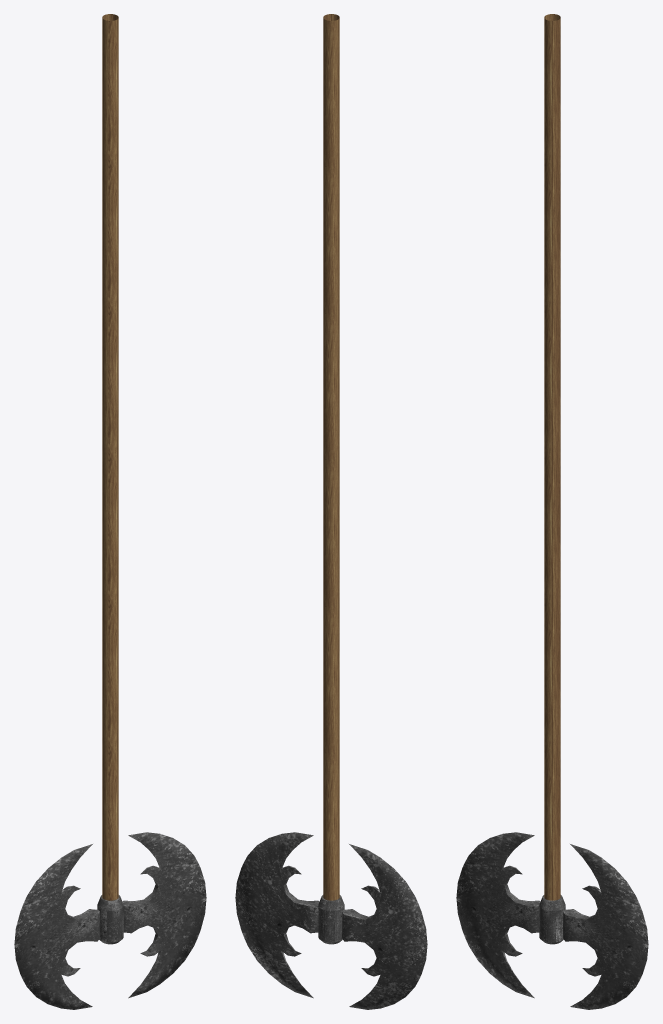
Rendered from Axe.fbx.
3 renders of one model, left to right at view 1: azimuth 30°, elevation 25°; view 2: azimuth 150°, elevation 25°; view 3: azimuth 330°, elevation 25°, orthographic.
Visible parts, largest first — view 1: Blade, Handle, Base; view 2: Blade, Handle, Base; view 3: Blade, Handle, Base.
Boxes of the visible parts, left/top/right/bottom form: Blade: left=14, top=832, right=206, bottom=1009; Handle: left=102, top=14, right=118, bottom=900; Base: left=97, top=895, right=123, bottom=944; Blade: left=235, top=832, right=427, bottom=1009; Handle: left=323, top=14, right=339, bottom=900; Base: left=318, top=895, right=344, bottom=944; Blade: left=456, top=832, right=648, bottom=1009; Handle: left=544, top=14, right=560, bottom=900; Base: left=539, top=895, right=565, bottom=944.
Bounding box in the file's own units: 144 × 705 × 17.2.
